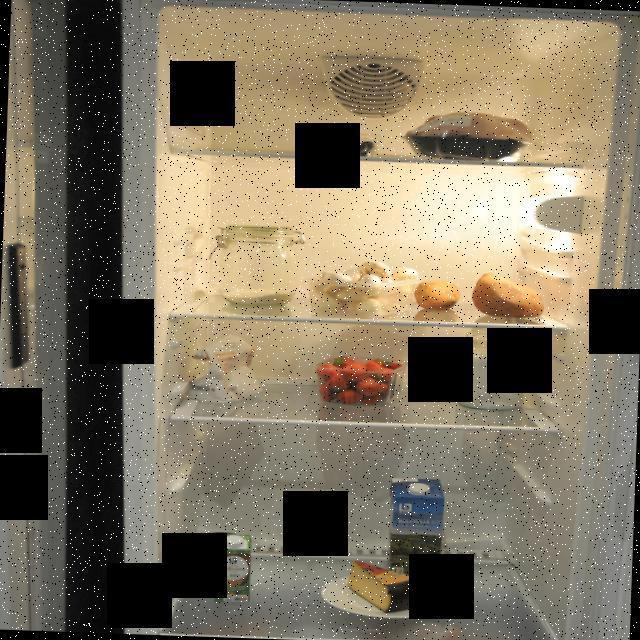Berries strawberries/blueberries: (313, 352, 410, 408), (294, 130, 384, 157)
Cheese: (340, 558, 430, 616)
Chicken: (398, 106, 540, 164)
Corn ear: (197, 530, 244, 576)
Cream: (212, 532, 253, 604)
Flour: (205, 221, 310, 309), (171, 332, 279, 406)
Milk carton/jug: (384, 474, 446, 576)
Mushroom: (315, 256, 423, 322)
Sugar: (454, 324, 528, 411)
Sweet Potato: (466, 272, 552, 318), (415, 276, 463, 314)
